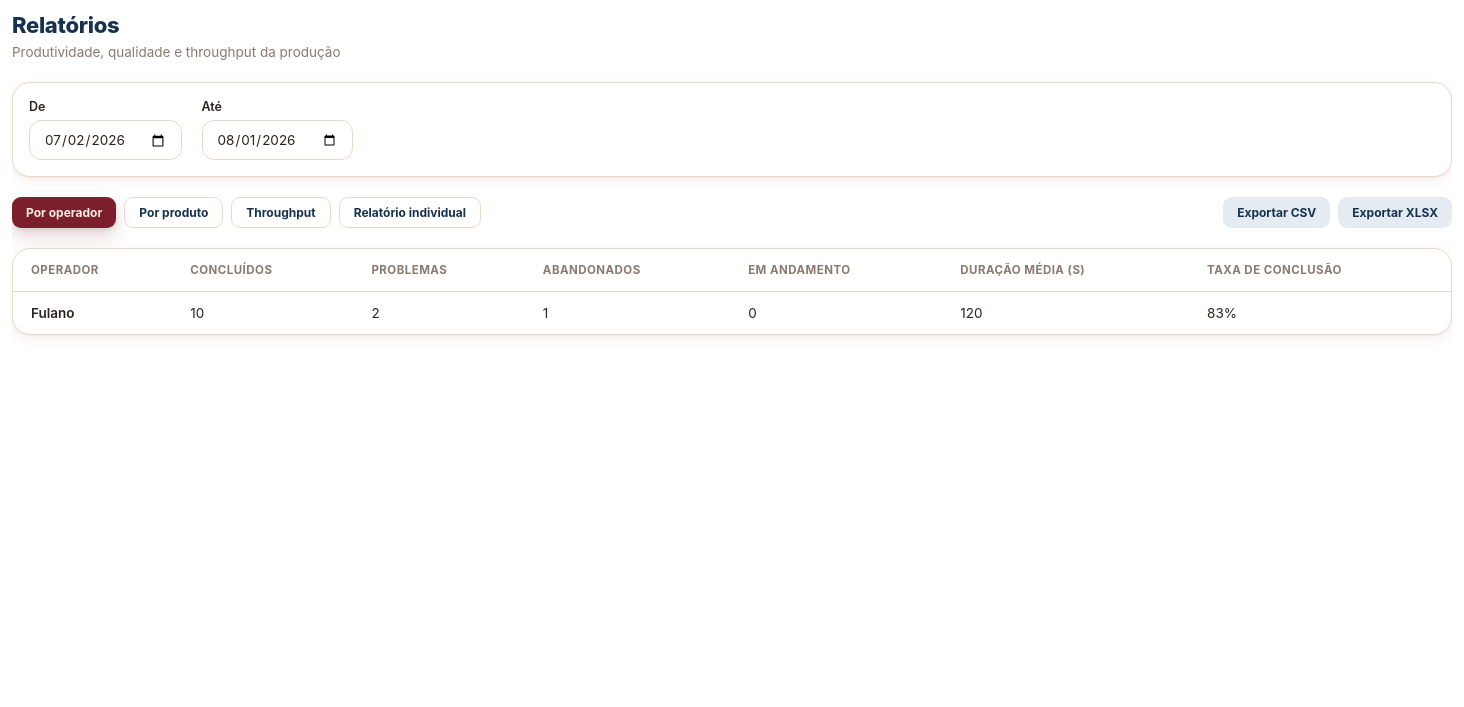
Test: ReportsScreen › aba de relatório individual carrega dados do operador selecionado
Expected: the text "Fulano" is shown, [13,292,172,334]
Click the button with test id "tab-operator-report". click: (410, 213)
box: [339,197,481,228]
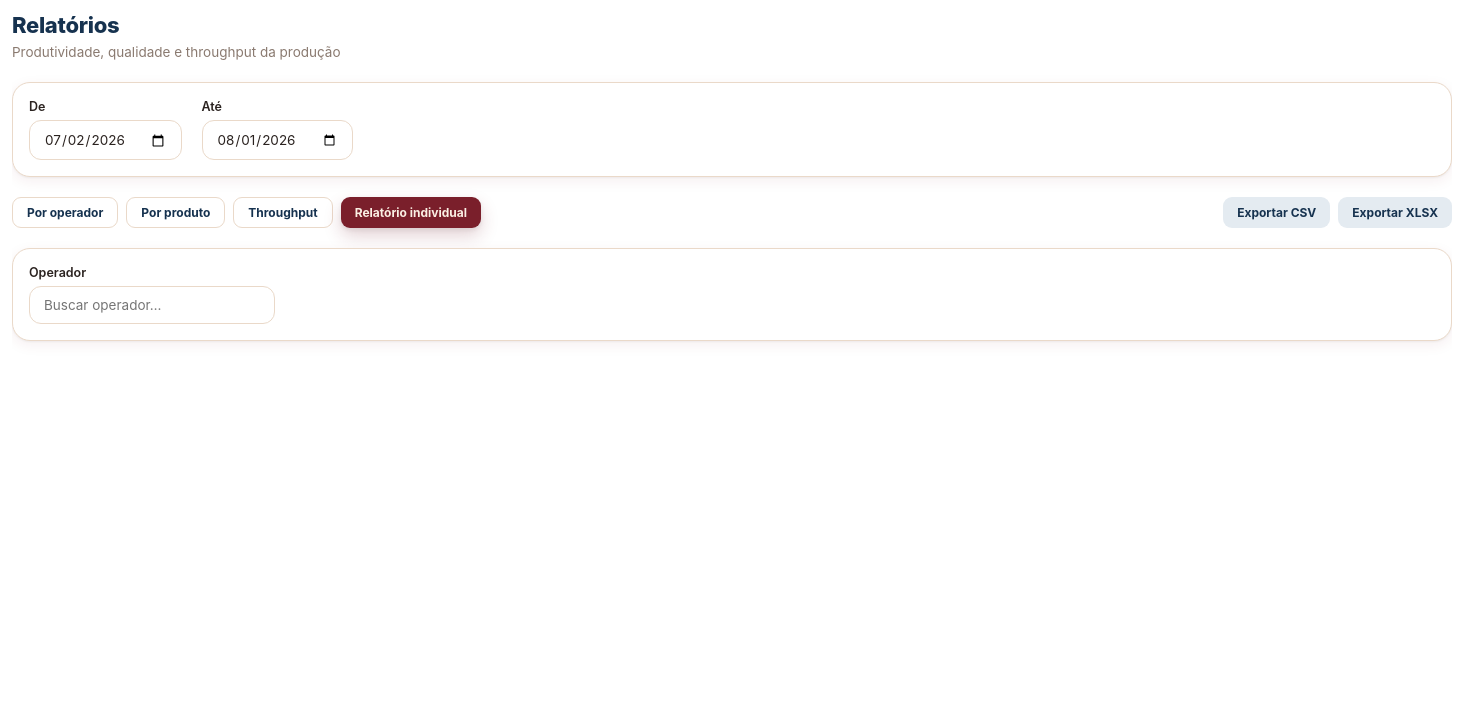
Expected: the field with test id "operator-search" is shown
Type "Fulano" into the field with test id "operator-search". click: (152, 305)
box: [29,286,275,324]
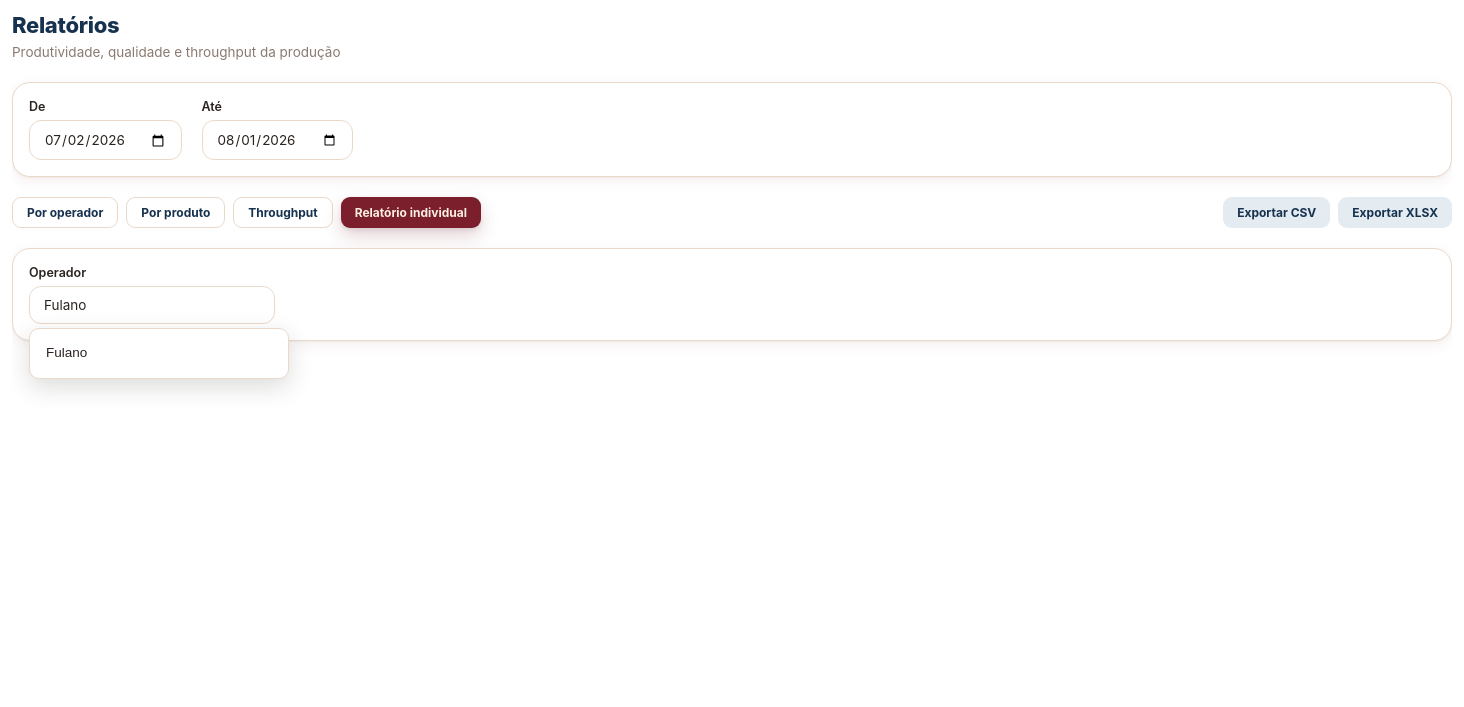
Click the button with test id "operator-suggestion-op-1". click: (159, 353)
box: [36,335,282,372]
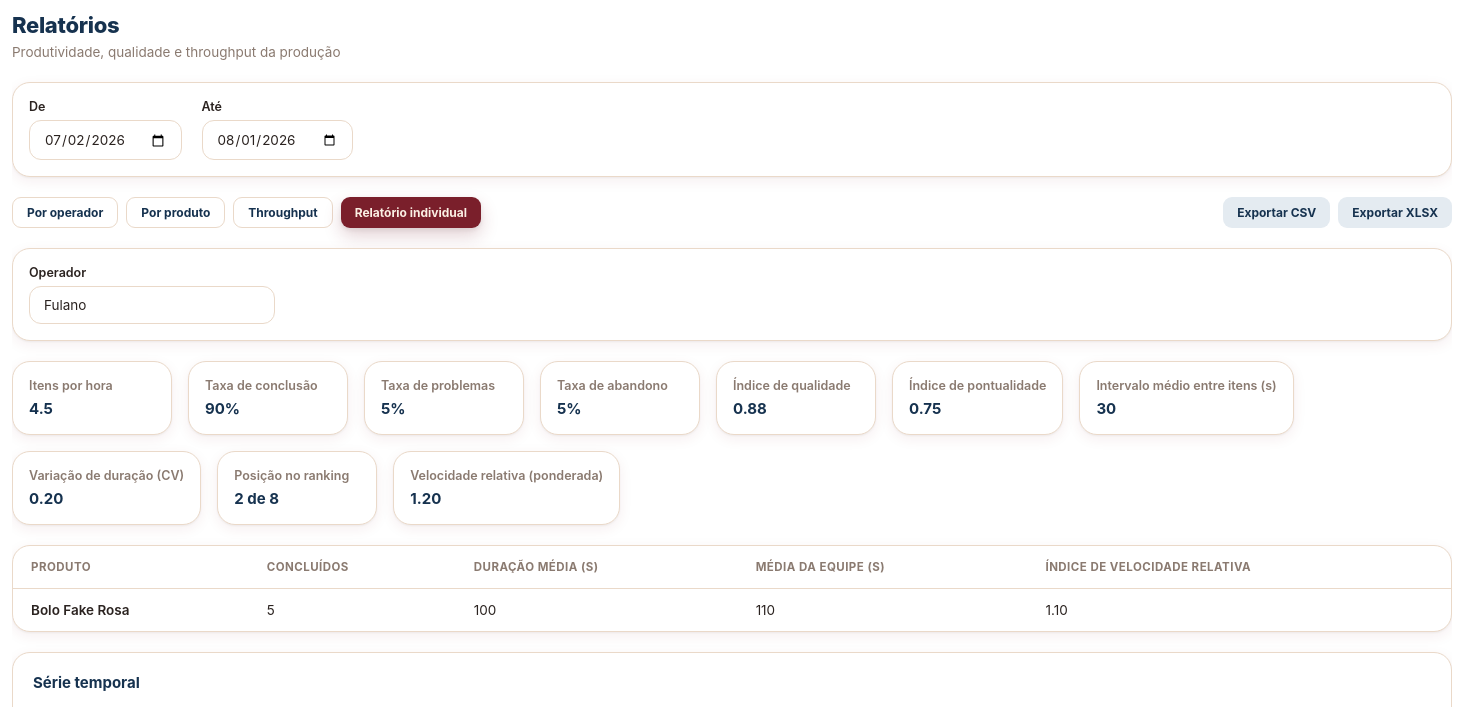
Expected: the text "Bolo Fake Rosa" is shown, [13,589,249,631]
Expected: the text "2 de 8" is shown, [234,489,279,508]
